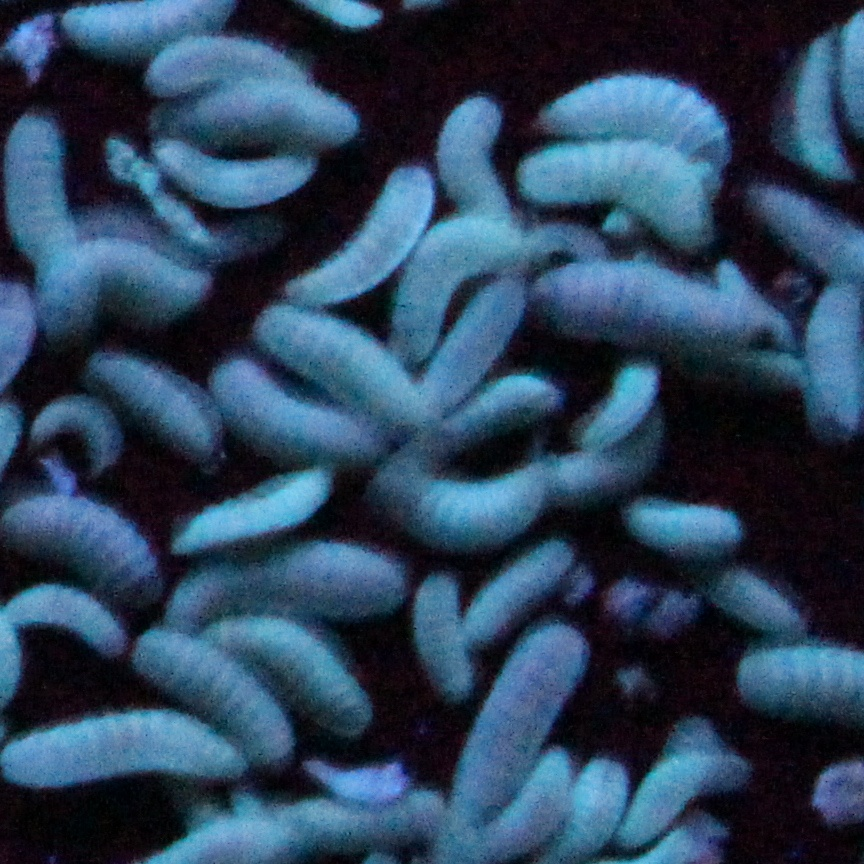larve: (536, 267, 751, 361), (293, 169, 435, 306), (208, 358, 378, 470), (212, 616, 372, 734), (145, 635, 295, 760), (33, 243, 222, 338), (269, 307, 422, 421), (172, 547, 400, 622), (371, 458, 550, 549), (0, 715, 226, 782), (528, 153, 700, 241), (152, 79, 371, 146), (400, 220, 511, 352), (423, 280, 531, 411), (97, 352, 218, 467), (539, 83, 717, 158), (271, 780, 438, 851), (149, 136, 315, 207), (182, 470, 324, 549), (547, 416, 670, 506), (619, 737, 719, 843), (779, 42, 851, 185), (442, 369, 572, 447), (429, 105, 518, 216), (410, 580, 480, 715), (490, 759, 578, 864), (477, 544, 566, 637), (8, 584, 120, 652), (624, 494, 741, 559), (701, 570, 802, 633)
